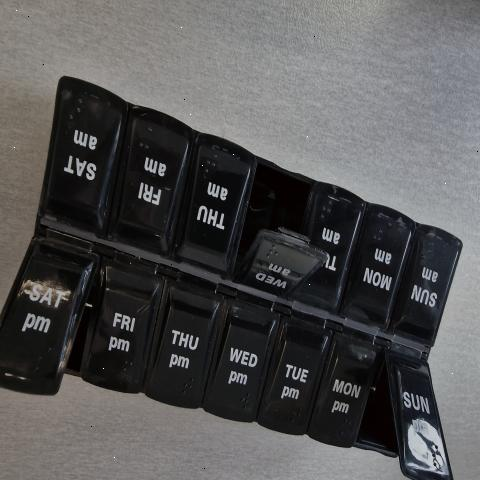Open: (231, 163, 326, 287), (359, 348, 419, 480), (56, 259, 97, 397)
